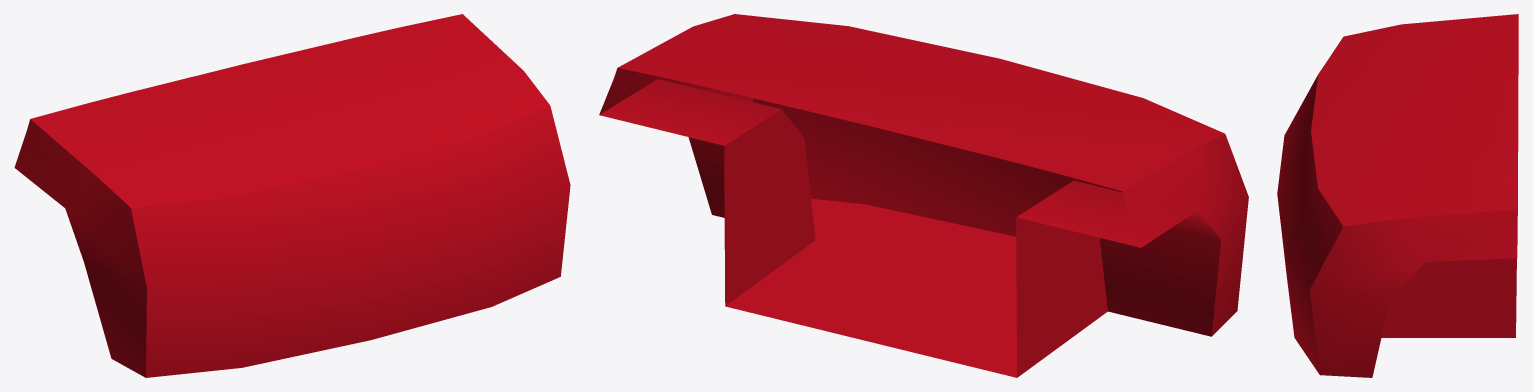
The model's file is template_car_front.dae.
3 renders of one model, left to right at view 1: azimuth 30°, elevation 25°; view 2: azimuth 150°, elevation 25°; view 3: azimuth 270°, elevation 25°, orthographic. The views are drawn at different scales.
Parts seen in each view (by area): view 1: template_car_front; view 2: template_car_front; view 3: template_car_front.
Part boxes in pixels (bbox=[...]): template_car_front: bbox=[14, 14, 570, 377]; template_car_front: bbox=[599, 14, 1248, 377]; template_car_front: bbox=[1277, 14, 1518, 377].
Size of the model in its own units: 1.7 by 0.8235 by 0.6481.
